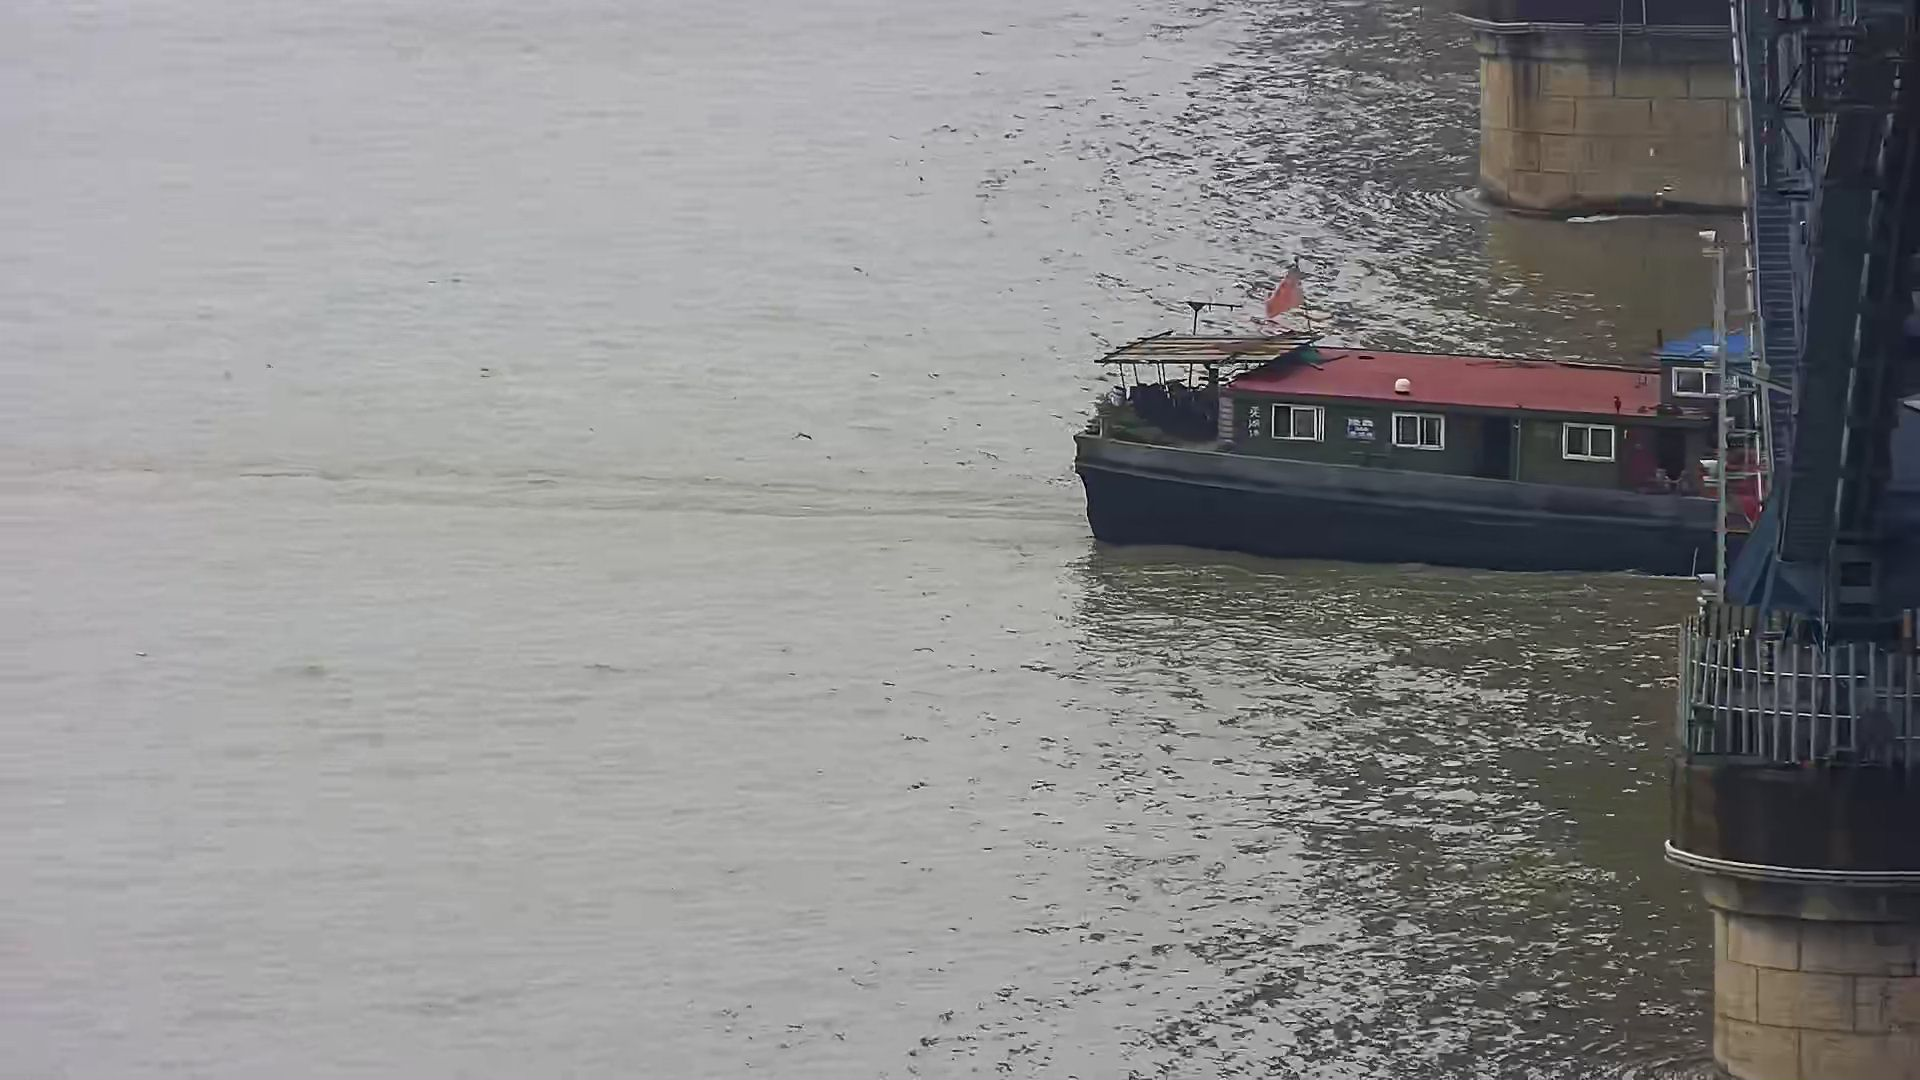bridge: (1439, 3, 1917, 1079)
ship: (1067, 264, 1778, 591)
